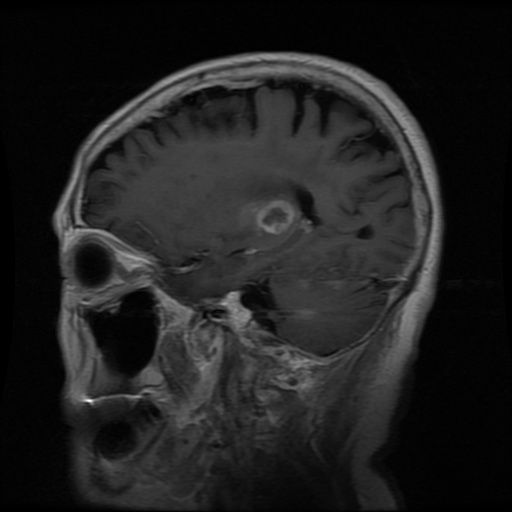glioma: (239, 199, 298, 235)
